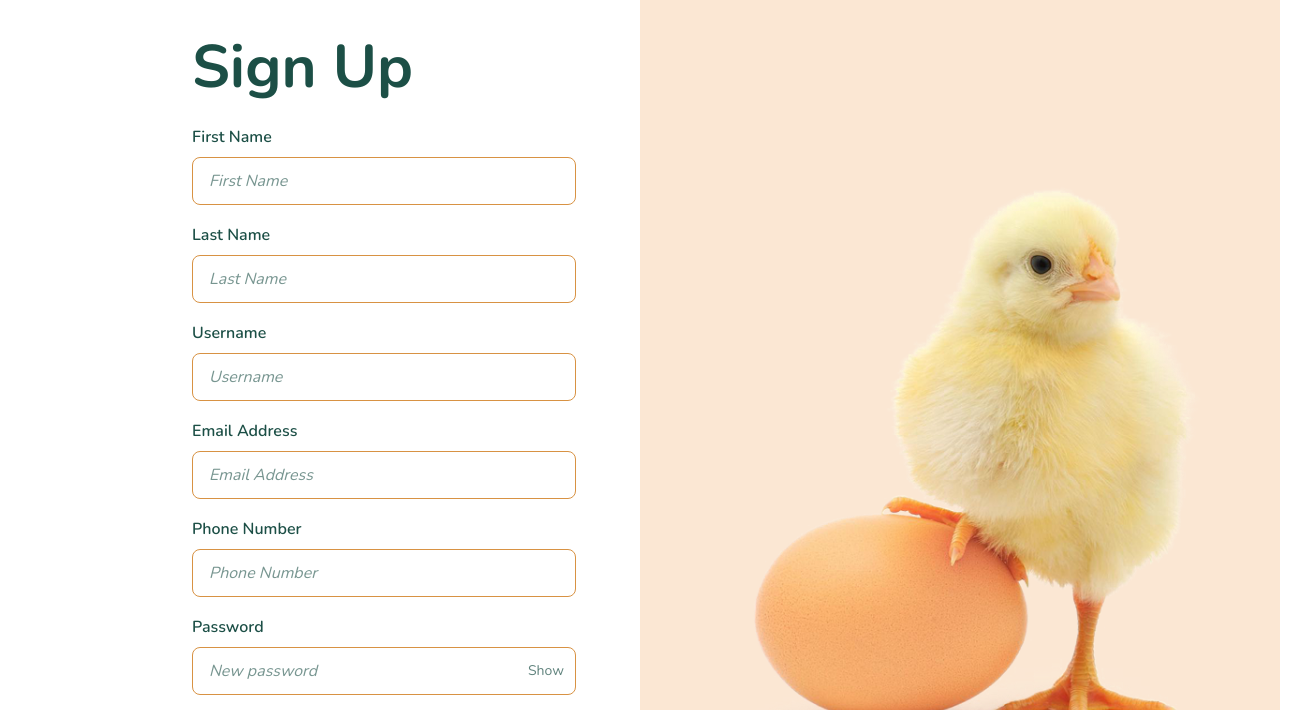
Test: SignUp Component › shows error message on register function throwing an error
This screenshot has width=1292, height=710.
In the field with placeholder "First Name": (384, 181) [192,157,576,205], type "Err"
In the field with placeholder "Last Name": (384, 279) [192,255,576,303], type "Case"
In the field with placeholder "Username": (384, 377) [192,353,576,401], type "errcase"
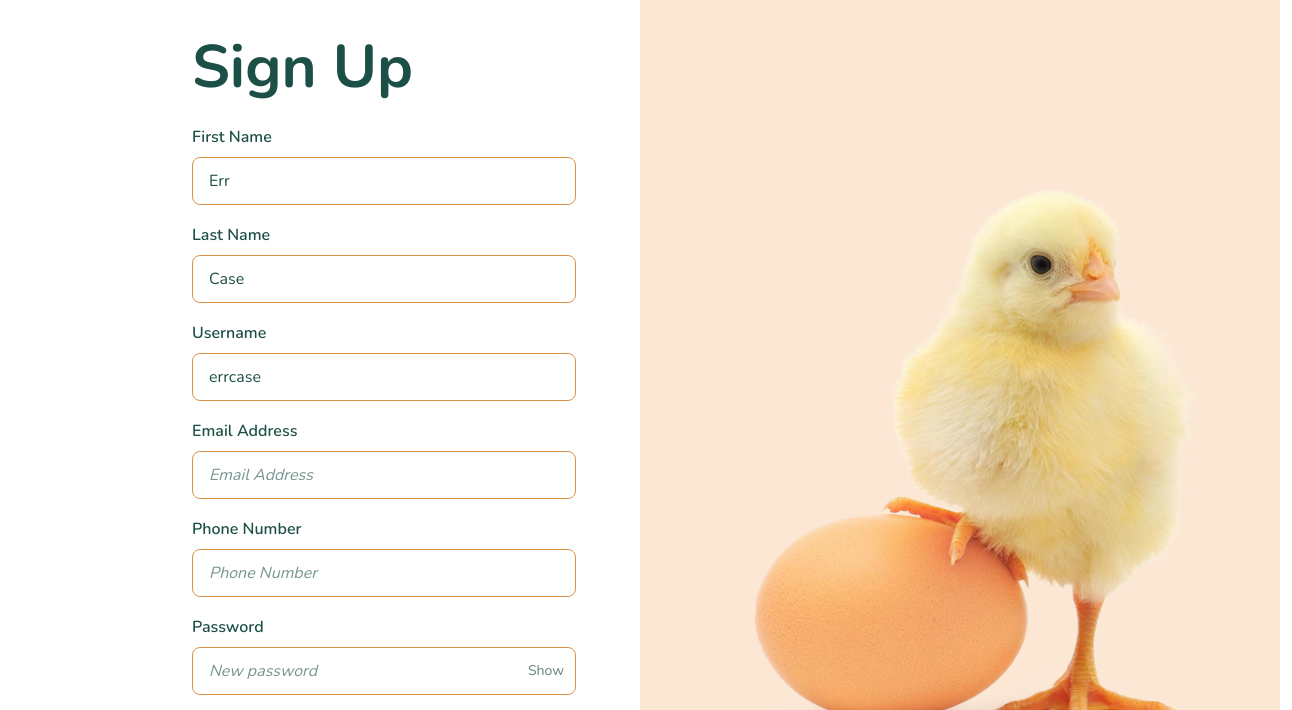
In the field with placeholder "Email Address": (384, 475) [192,451,576,499], type "err@example.com"
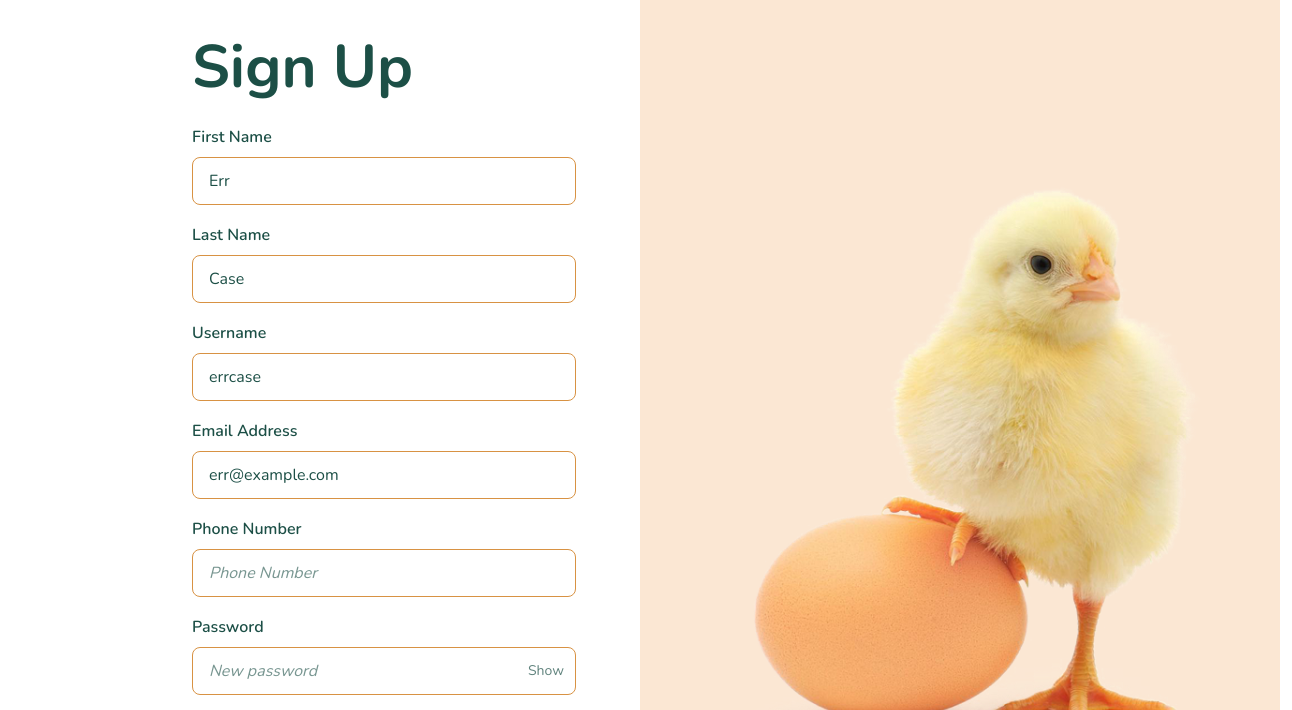
In the field with placeholder "Phone Number": (384, 573) [192,549,576,597], type "1111111111"
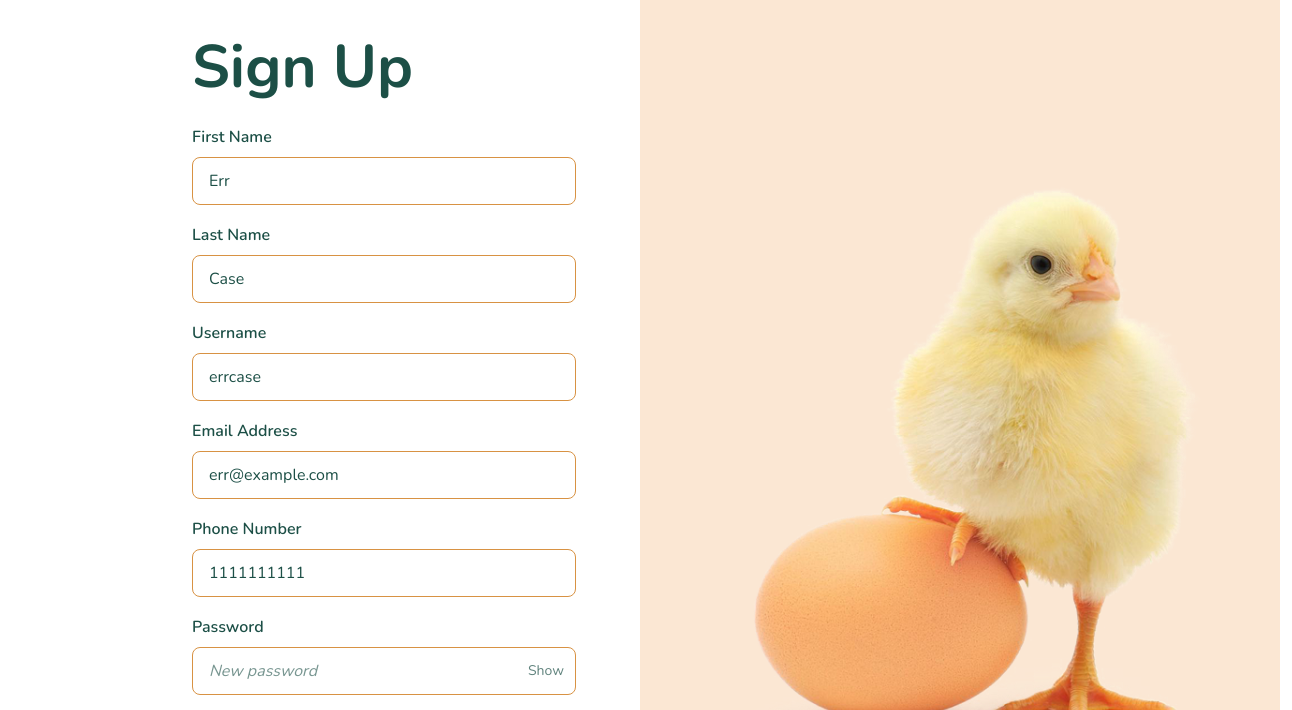
In the password field with placeholder "New password": (384, 671) [192,647,576,695], type "passworderr"
(page scrolled)
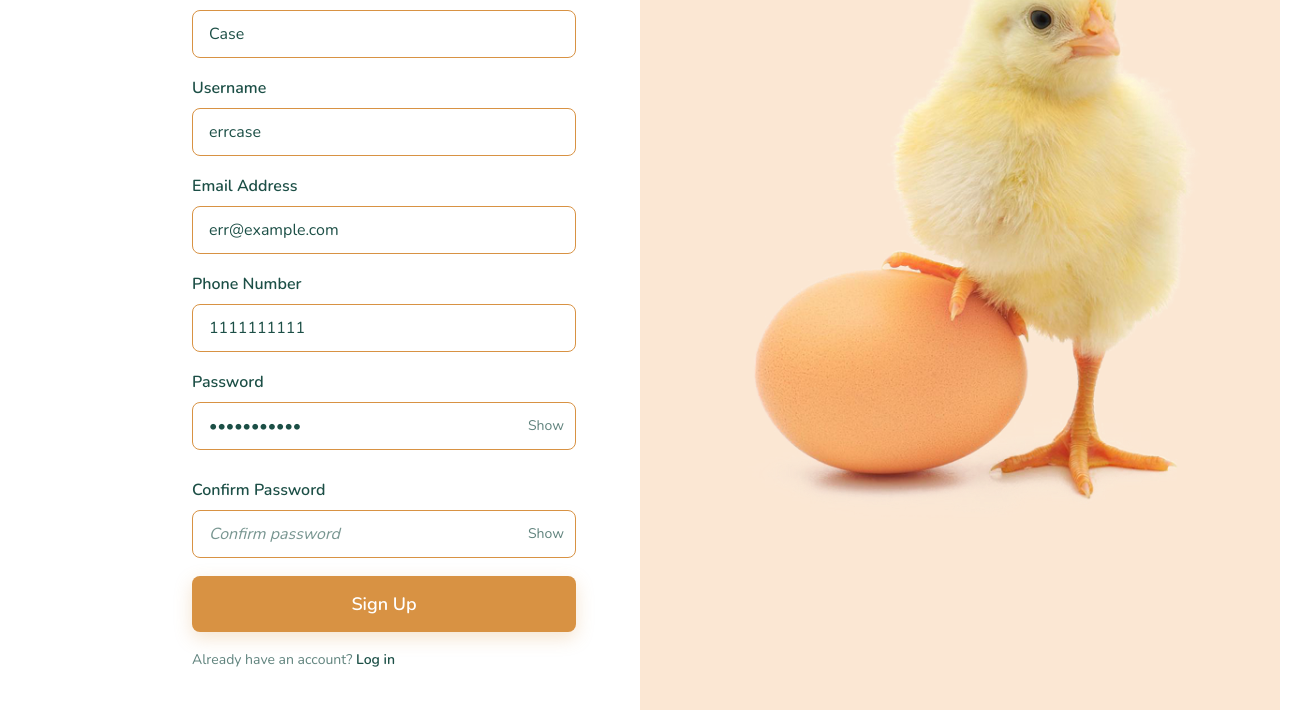
In the password field with placeholder "Confirm Password": (384, 534) [192,510,576,558], type "passworderr"
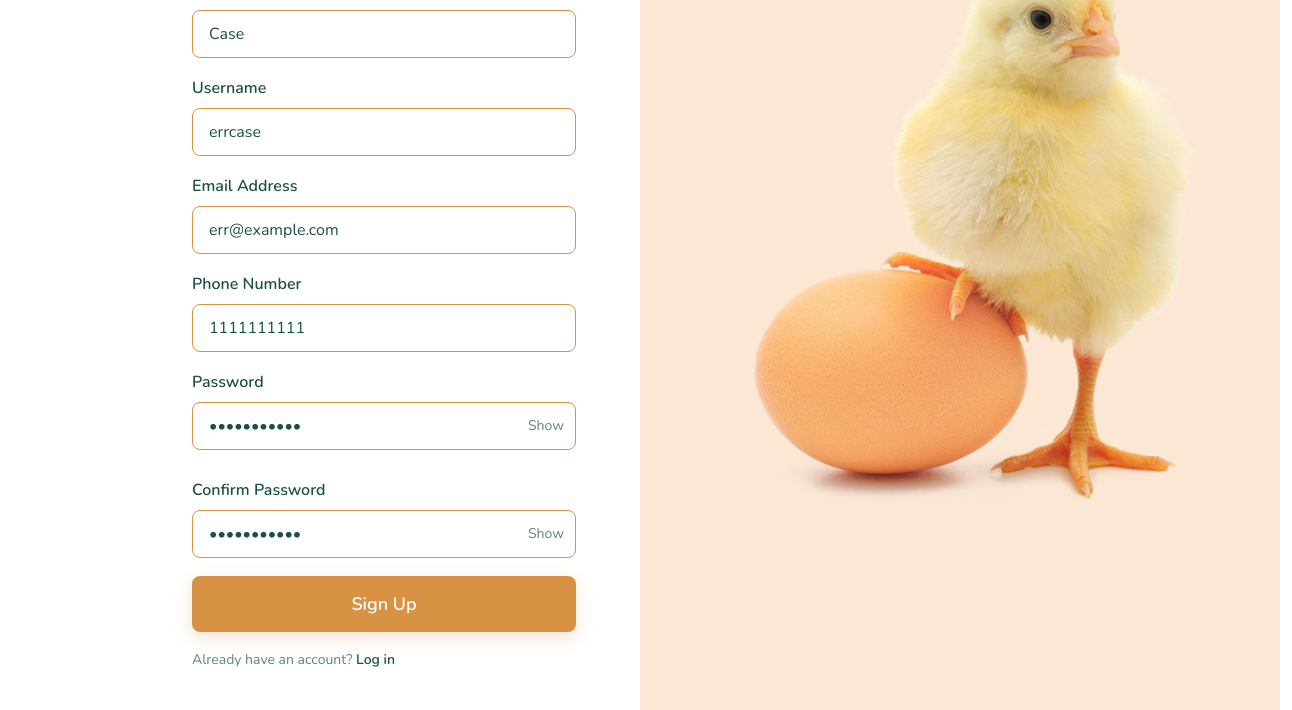
Click the button "Sign Up": (384, 604) [192,576,576,632]
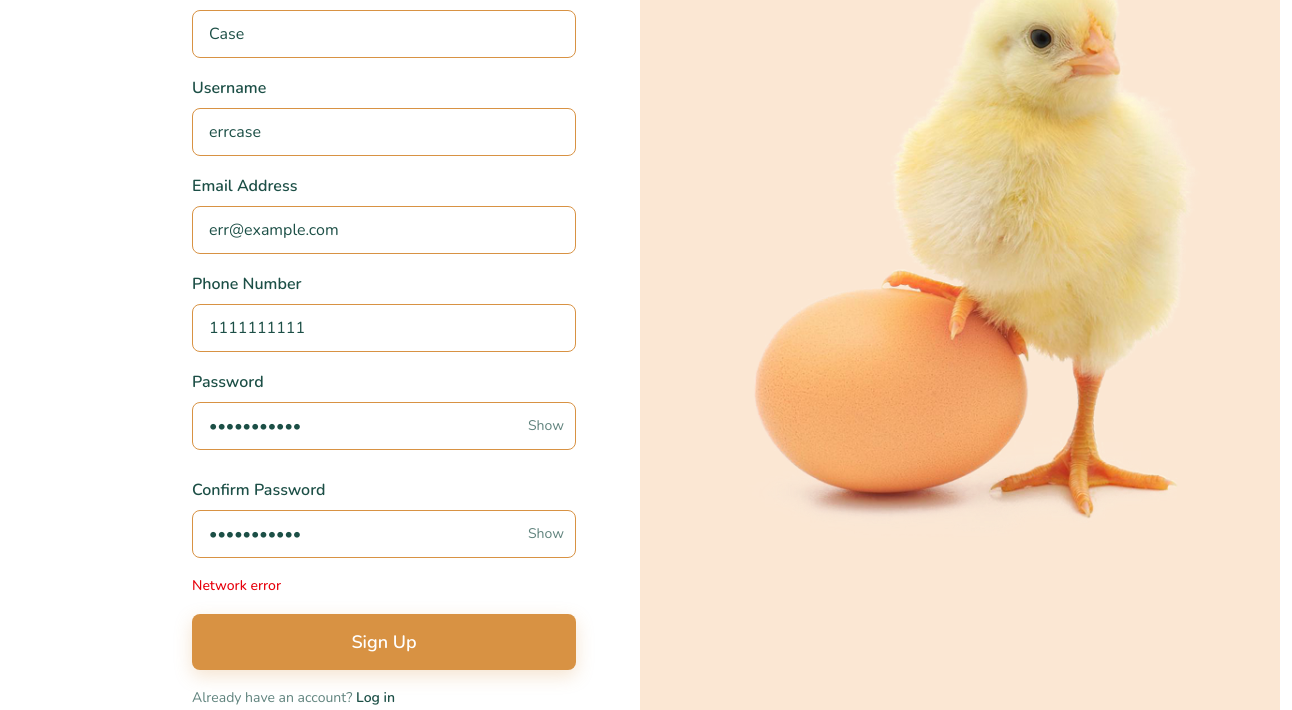
Result: the text "Network error" is shown at [192,576,281,595]
